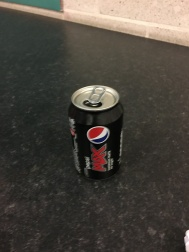can_black: (50, 81, 135, 187)
